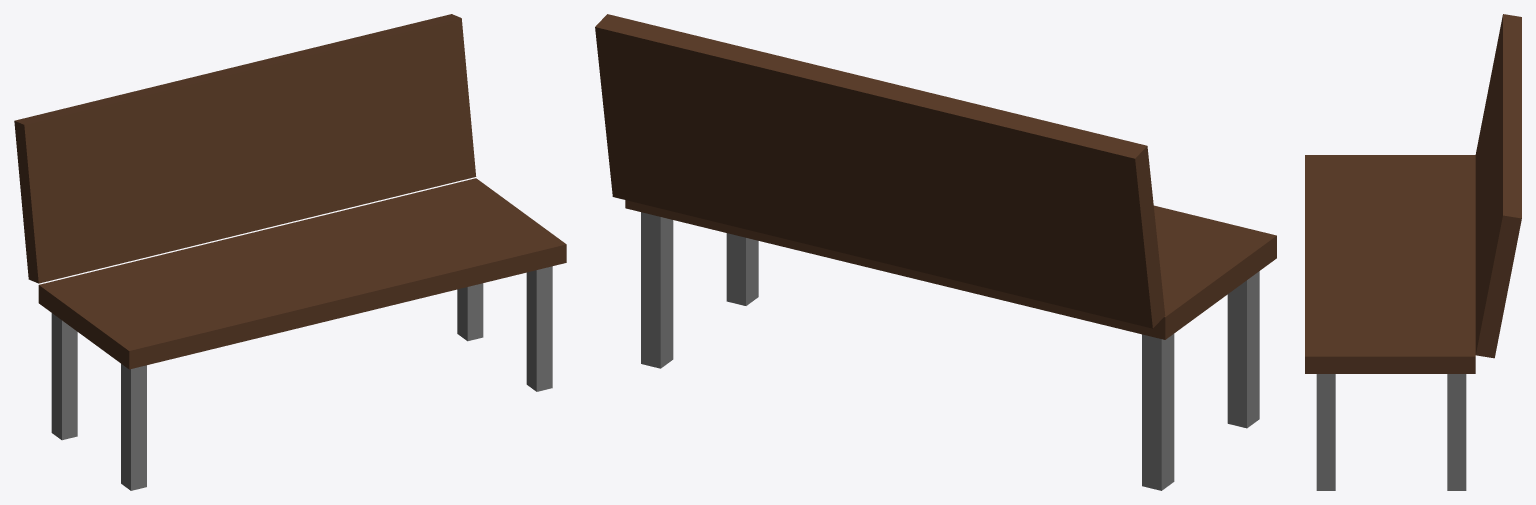
File: Bench_Model.fbx
The picture shows the model from 3 angles, left to right: view 1: azimuth 30°, elevation 25°; view 2: azimuth 150°, elevation 25°; view 3: azimuth 270°, elevation 25°; orthographic projection. The views are drawn at different scales.
Parts seen in each view (by area): view 1: Bench.002, Bench, Bench.001; view 2: Bench.002, Bench.001, Bench; view 3: Bench, Bench.002, Bench.001.
Boxes of the visible parts, box(x1,y1,x2,y2) form: Bench.002: box(14, 14, 476, 283); Bench: box(38, 178, 566, 369); Bench.001: box(51, 266, 552, 490); Bench.002: box(595, 14, 1165, 328); Bench.001: box(641, 212, 1259, 490); Bench: box(625, 200, 1276, 339); Bench: box(1305, 155, 1475, 373); Bench.002: box(1475, 14, 1521, 358); Bench.001: box(1316, 374, 1466, 490).
Size of the model in its own units: 149 by 96.22 by 67.76.
